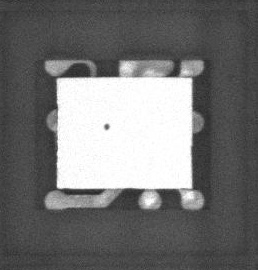DIE_INK: (97, 126, 106, 139)
